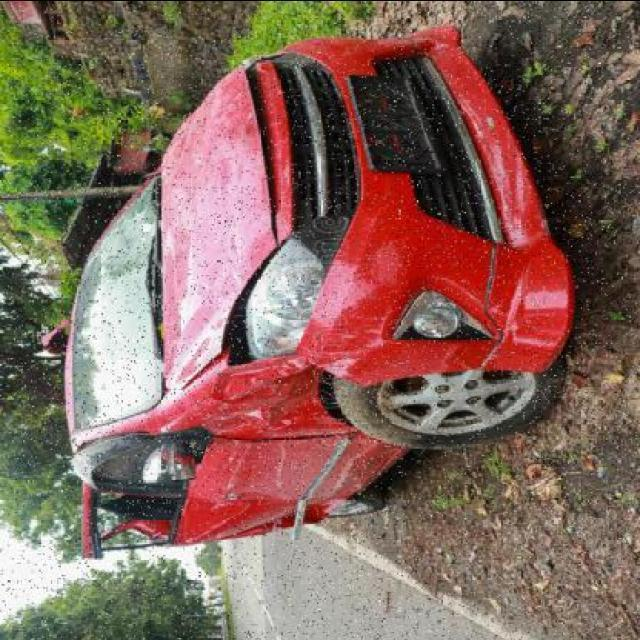bonnet-dent: (157, 76, 276, 347)
doorouter-dent: (88, 493, 344, 556)
fender-dent: (163, 351, 346, 439)
front-bumper-dent: (303, 35, 583, 376)
